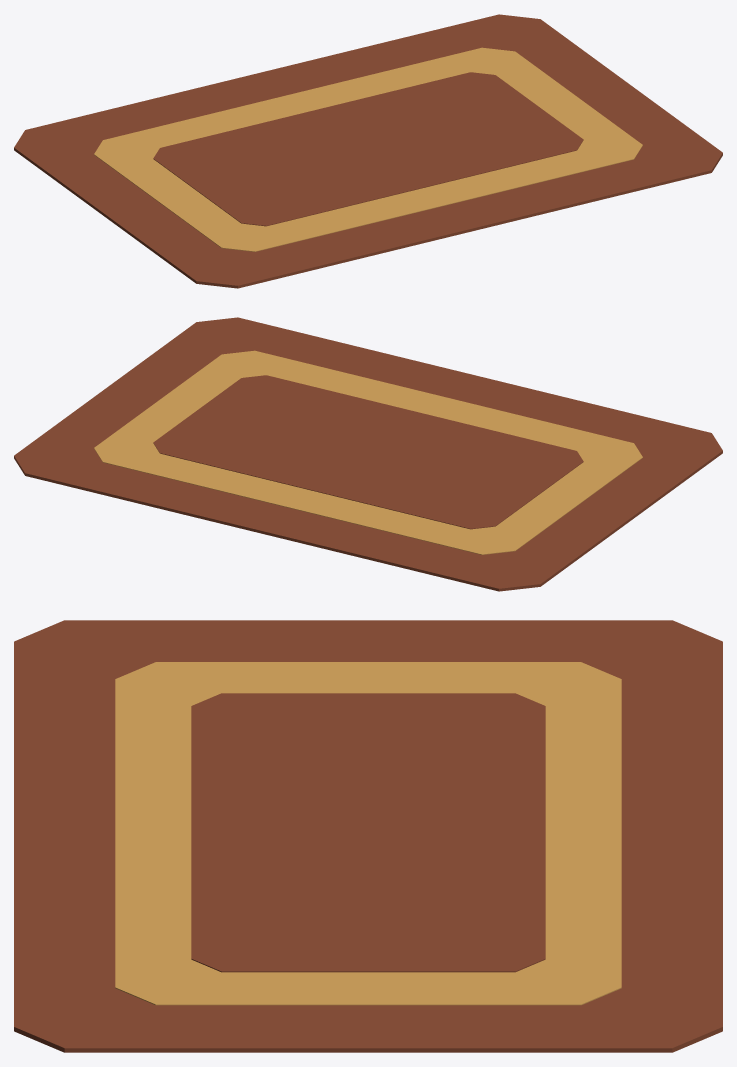
File: rug.obj
3 renders of one model, top to bottom at view 1: azimuth 30°, elevation 25°; view 2: azimuth 150°, elevation 25°; view 3: azimuth 270°, elevation 25°, orthographic. The views are drawn at different scales.
Parts seen in each view (by area): view 1: rug; view 2: rug; view 3: rug.
Part boxes in pixels (box(x1,y1,x2,y2)): rug: box(14, 14, 722, 288); rug: box(14, 317, 722, 591); rug: box(14, 620, 722, 1052).
Size of the model in its own units: 2 by 0.014 by 1.4.
